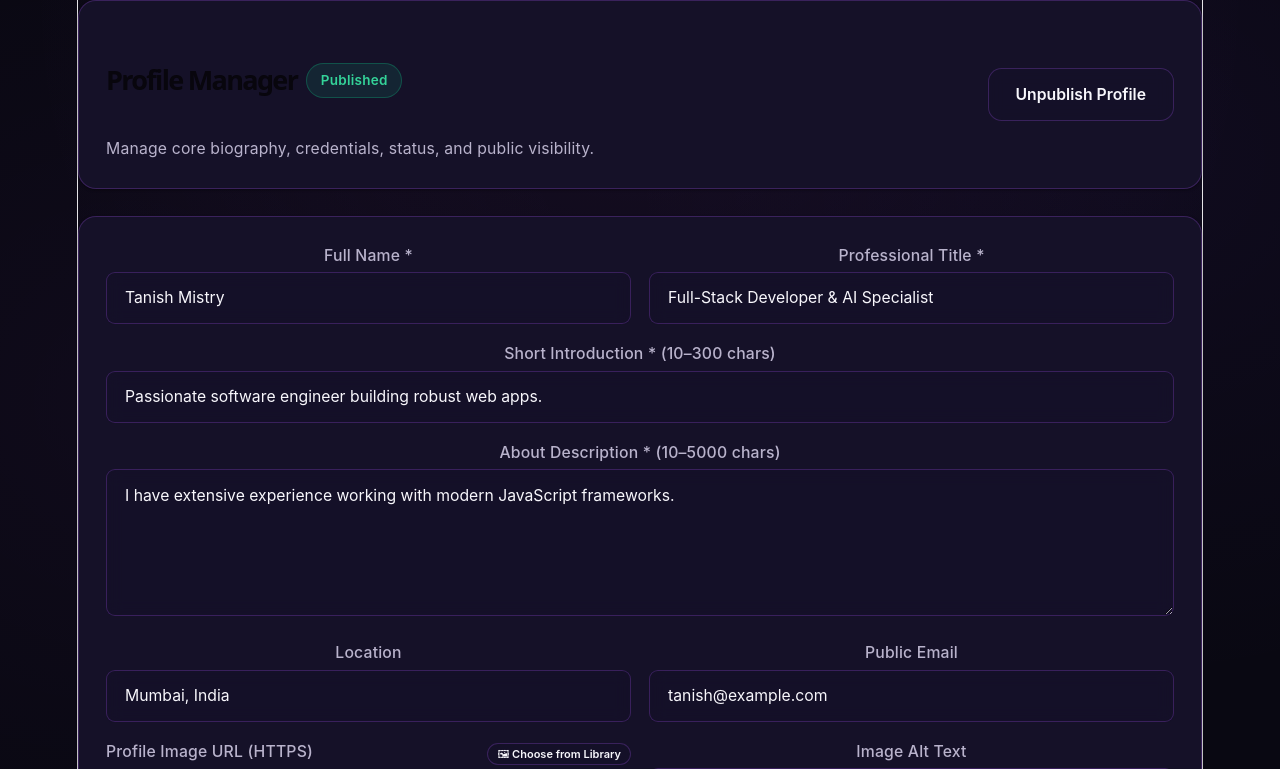
Scenario: ProfileManager Component (src/pages/admin/ProfileManager.jsx) › 3. Toggles publication state (unpublish and publish)
What coordinates should you click on to do the following:
click the button "Unpublish Profile"
I would click on:
 (1081, 94)
Its box is 988,68 -> 1174,121.
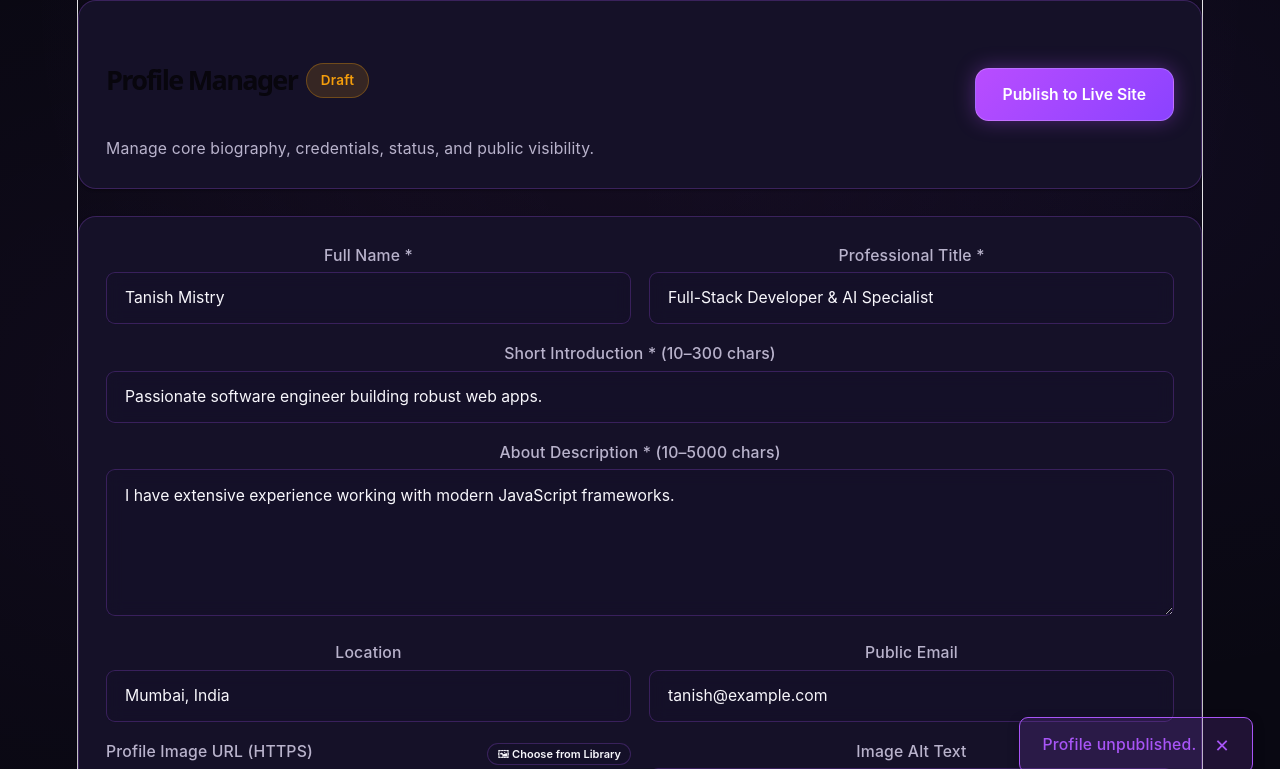
Expected: the text "Profile unpublished." is shown, 1042,733 -> 1196,757
